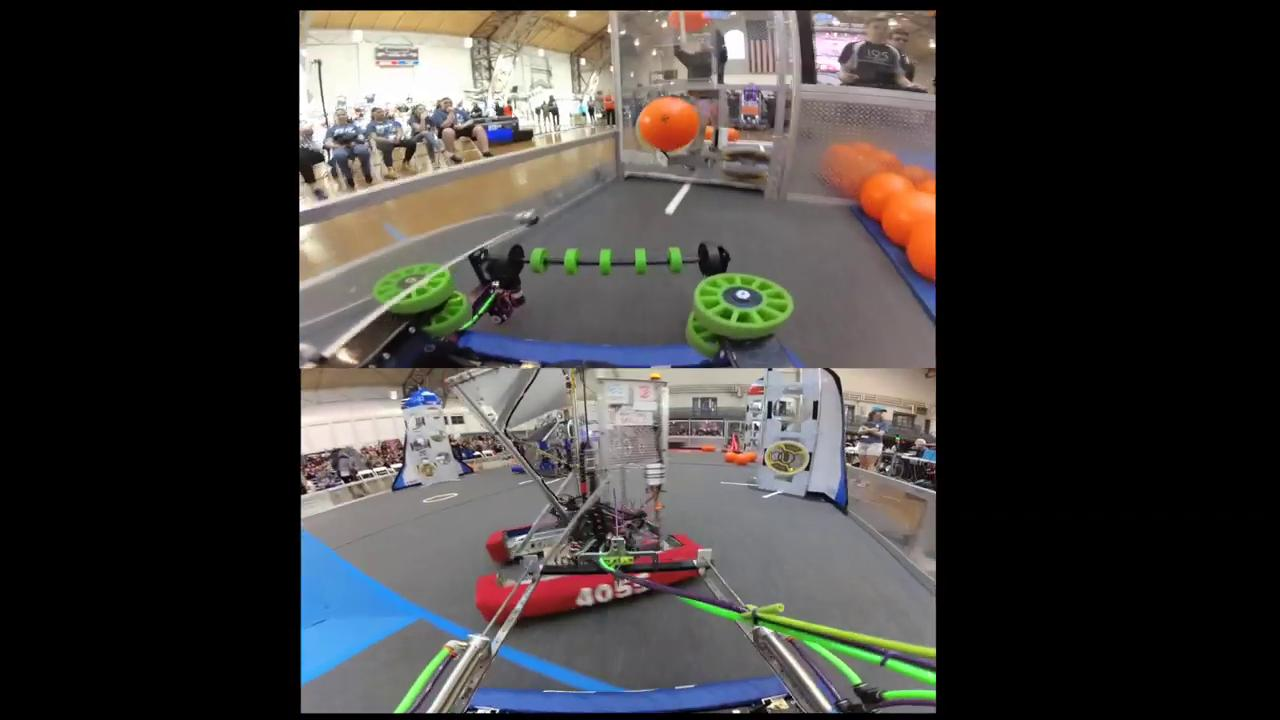robot: (478, 369, 721, 629)
